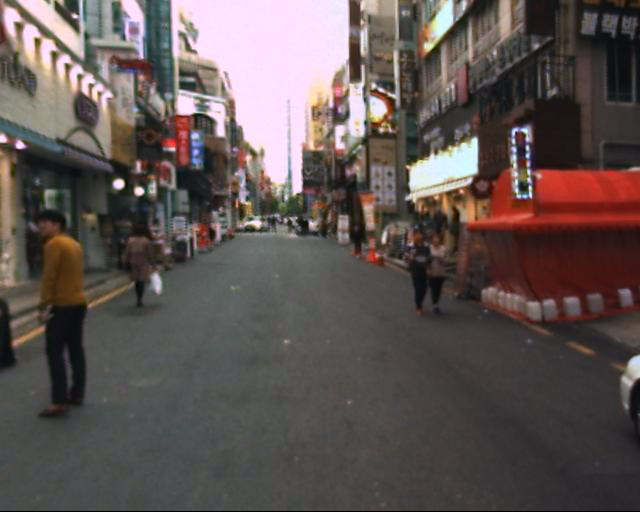person: (18, 201, 103, 427), (124, 222, 171, 325), (424, 225, 457, 312), (409, 227, 438, 310), (350, 214, 377, 269)
